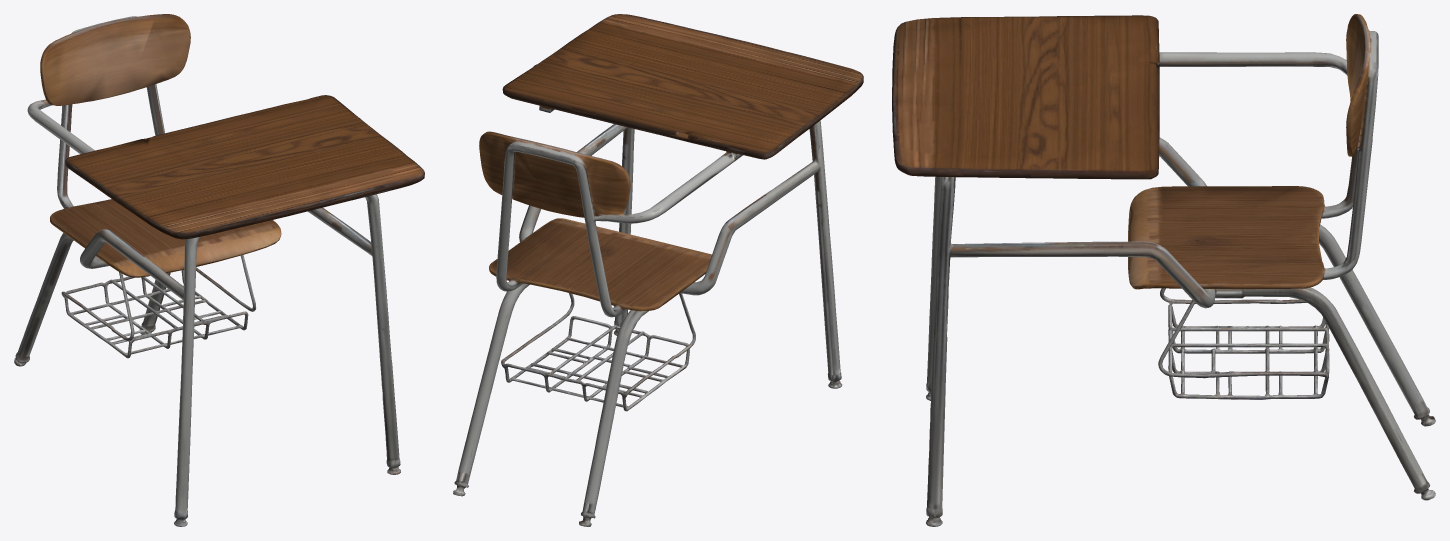
The model's file is school-desk-chair2.glb.
3 renders of one model, left to right at view 1: azimuth 30°, elevation 25°; view 2: azimuth 150°, elevation 25°; view 3: azimuth 270°, elevation 25°, orthographic. The views are drawn at different scales.
Parts seen in each view (by area): view 1: Mesh1.0; view 2: Mesh1.0; view 3: Mesh1.0.
Boxes of the visible parts, x1,y1,x2,y2 form: Mesh1.0: (14, 14, 424, 526); Mesh1.0: (453, 14, 863, 526); Mesh1.0: (892, 14, 1435, 526).
Size of the model in its own units: 0.65 by 0.8 by 0.9445.
Materials: 1 (1 with a texture image).
